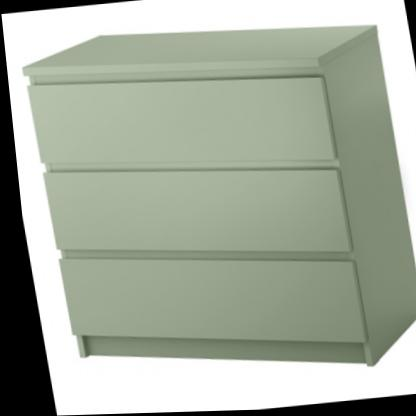Cabinet: (10, 4, 416, 403)
